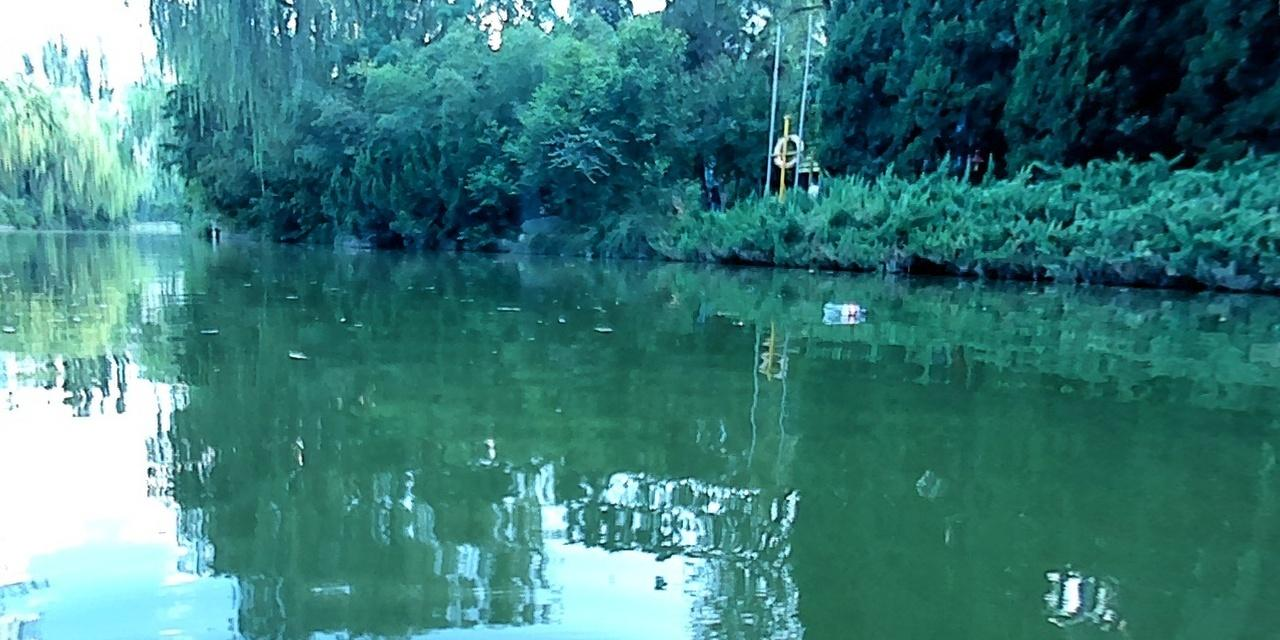bottle: (821, 301, 865, 315)
